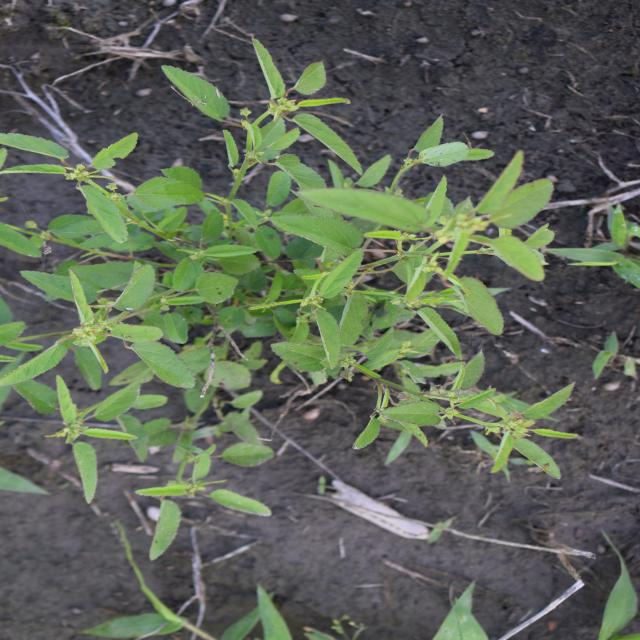PricklySida: (1, 34, 582, 564)
